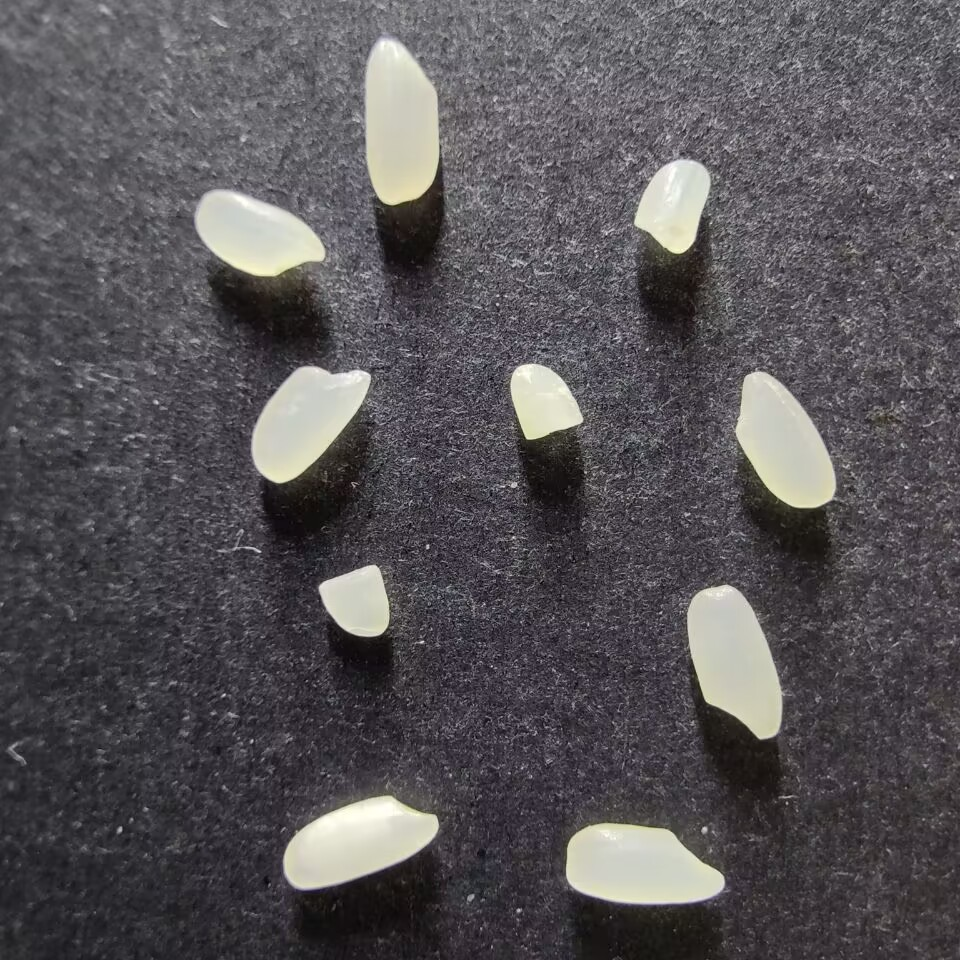broken: (634, 159, 710, 255), (509, 362, 584, 442), (317, 562, 390, 638)
rice: (685, 585, 782, 741), (282, 794, 439, 890), (249, 364, 370, 484), (734, 370, 836, 509), (564, 822, 725, 906), (362, 39, 440, 205), (194, 190, 325, 278)
